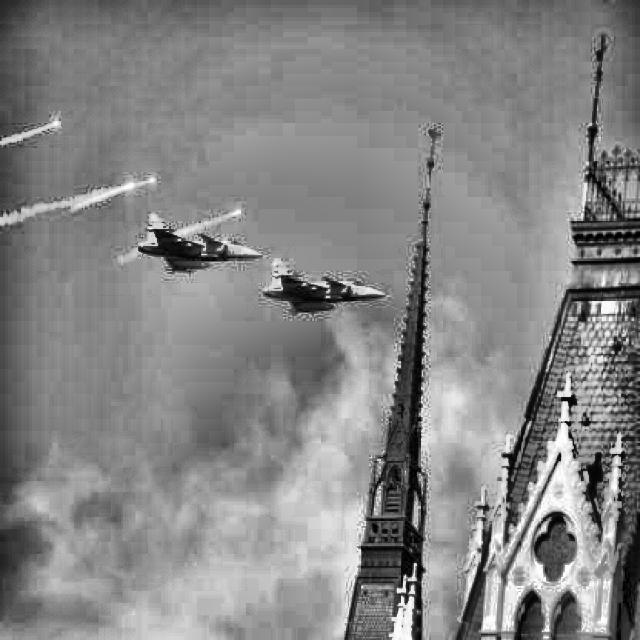JAS39: (138, 214, 270, 275), (263, 258, 392, 314)
